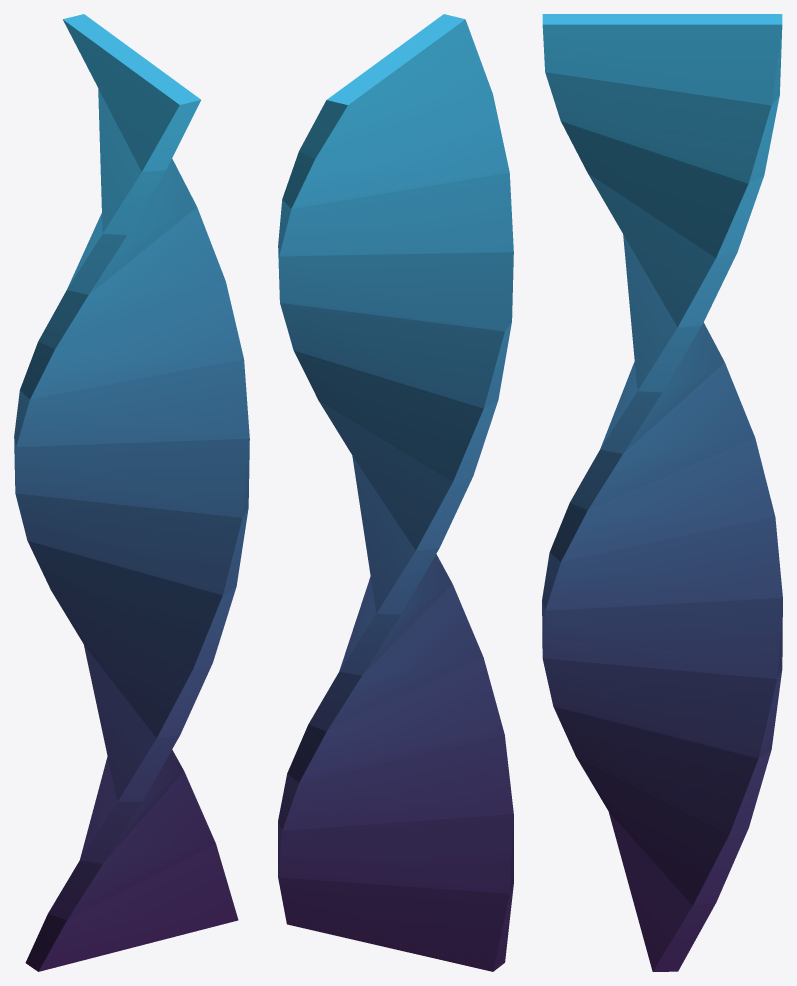
The model's file is Monument_Energy.fbx.
3 views of the same model, side by side, from view 1: azimuth 30°, elevation 25°; view 2: azimuth 150°, elevation 25°; view 3: azimuth 270°, elevation 25° (orthographic). The views are drawn at different scales.
Parts seen in each view (by area): view 1: Monument_Energy; view 2: Monument_Energy; view 3: Monument_Energy.
Boxes of the visible parts, x1,y1,x2,y2 form: Monument_Energy: [14, 14, 249, 971]; Monument_Energy: [278, 14, 513, 971]; Monument_Energy: [542, 14, 782, 971].
Size of the model in its own units: 421 by 1736 by 420.
